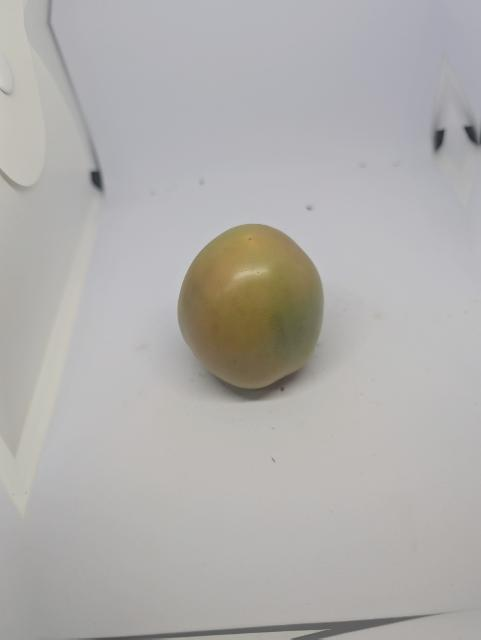breaker: (173, 222, 328, 392)
